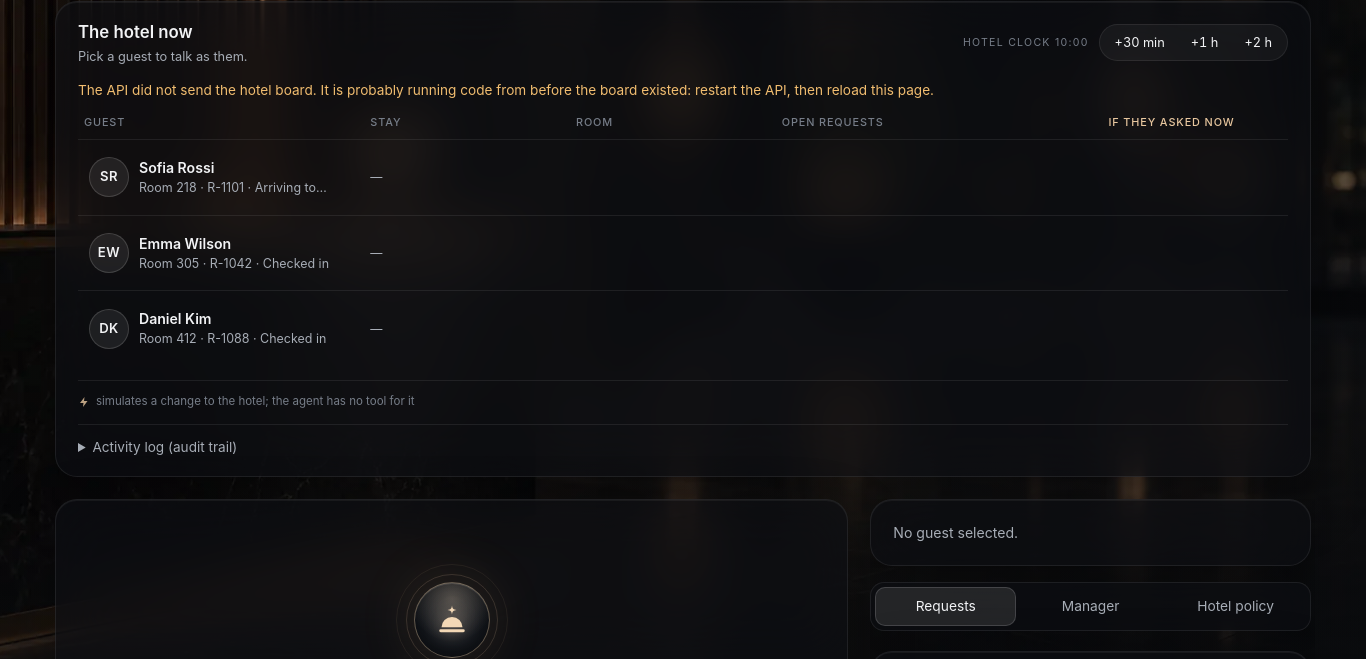
Scenario: chat-first demo › selects a guest, sends a message, shows states, reply and actual tool activity
This screenshot has width=1366, height=659.
Click the button with test id "guest-G-001". click: (213, 253)
box: 84,228 -> 342,278
(page scrolled)
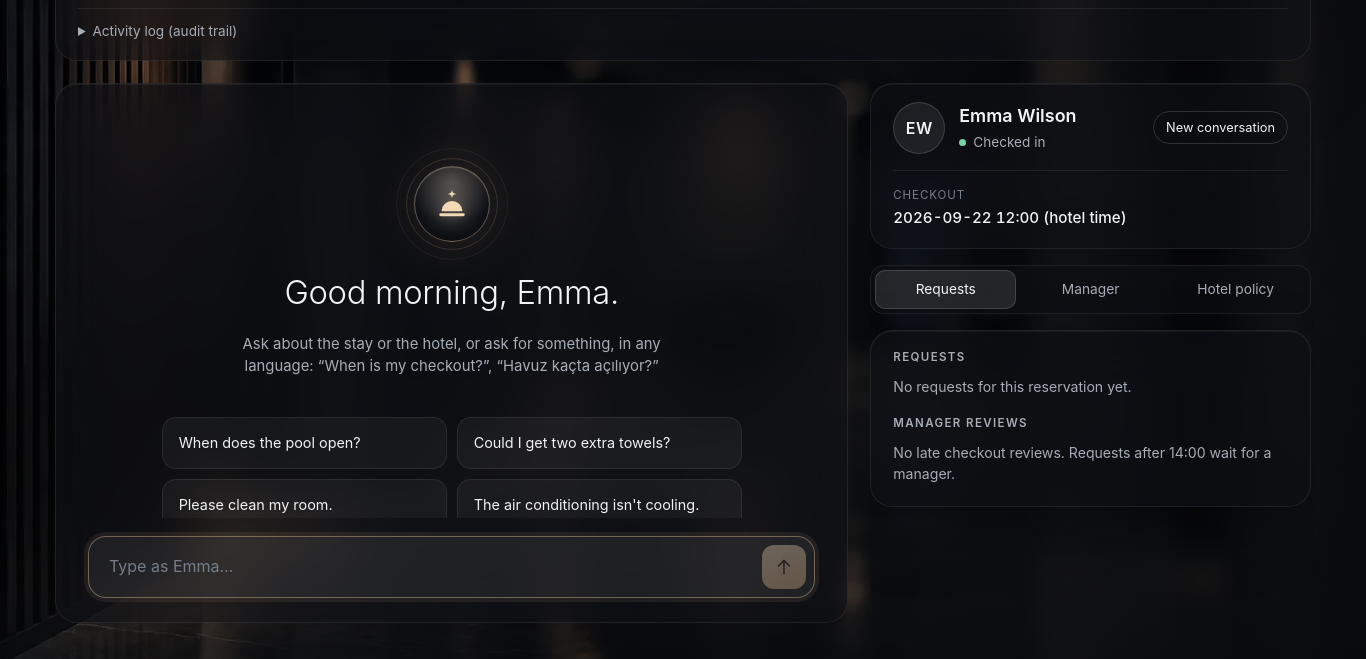
Now the text "Emma Wilson" is shown, box 959,105 -> 1076,126
Type "When is my checkout?" into the text box named "Message". click: (431, 567)
box: 109,545 -> 752,588
Then press Enter
(page scrolled)
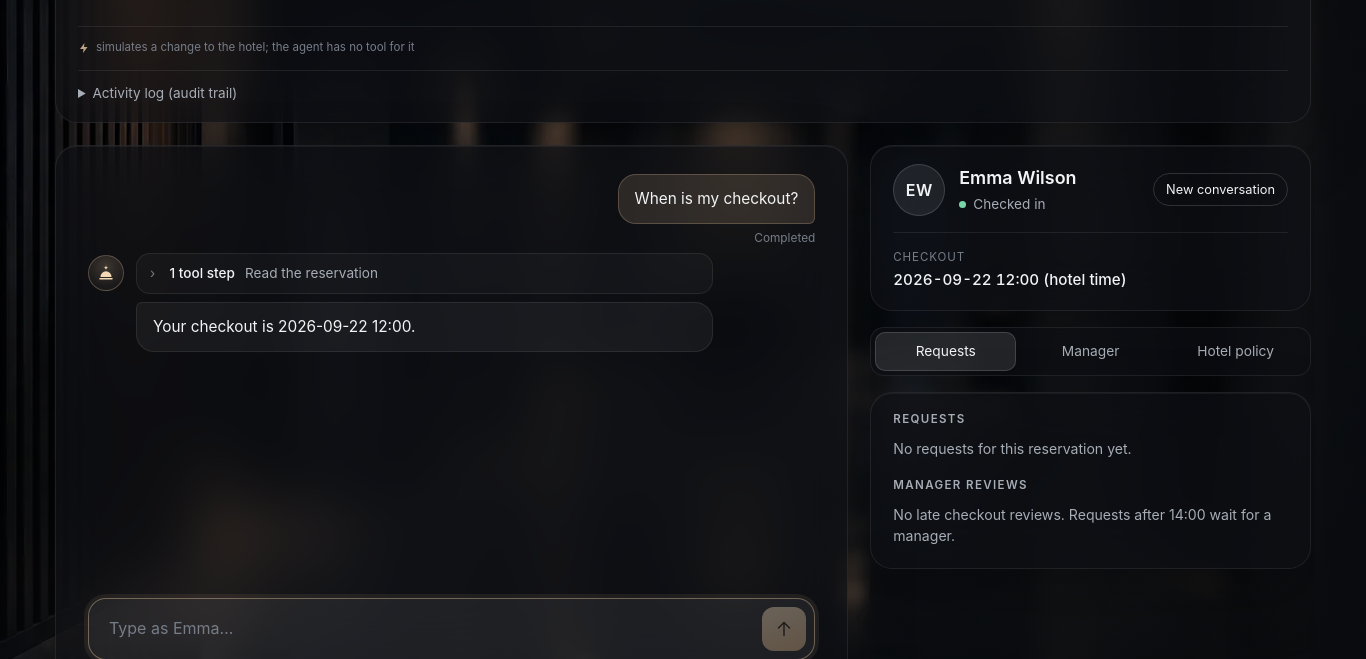
Now the text "When is my checkout?" is shown, box 618,174 -> 815,224
Now the element with test id "agent-reply" reads "Your checkout is 2026-09-22 12:00.", box 153,317 -> 415,336
Now the element with test id "steps" shows "1 tool step", box 136,253 -> 714,294
